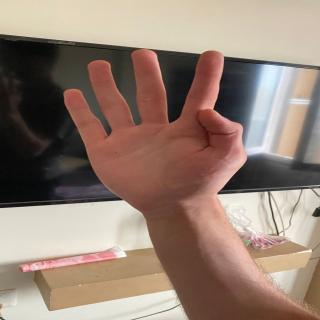SHEEN: (55, 41, 258, 202)
